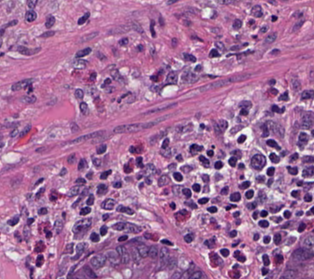nucleus: (69, 130, 104, 143), (200, 77, 232, 90), (145, 103, 176, 113), (113, 123, 144, 132), (266, 121, 283, 137), (72, 218, 91, 232), (12, 79, 33, 90), (72, 243, 86, 259), (117, 246, 130, 263), (251, 154, 265, 169), (90, 255, 105, 268), (105, 250, 119, 263), (17, 46, 39, 54), (75, 47, 90, 58), (182, 72, 198, 82), (159, 248, 169, 264), (80, 32, 97, 41), (116, 205, 133, 214), (111, 71, 123, 83), (124, 223, 140, 232), (137, 244, 148, 257), (83, 266, 96, 277), (232, 73, 249, 81), (67, 185, 79, 196), (102, 198, 114, 209), (73, 59, 87, 68), (19, 125, 30, 136), (264, 33, 276, 43), (267, 139, 279, 149), (148, 246, 158, 258), (210, 253, 219, 266), (58, 260, 65, 276), (217, 119, 227, 130), (158, 175, 169, 185), (190, 144, 202, 153), (161, 148, 173, 157), (175, 209, 187, 218), (131, 250, 140, 262), (54, 220, 62, 233), (199, 156, 209, 166), (97, 184, 107, 194), (35, 187, 44, 198), (7, 216, 18, 225), (35, 241, 44, 252), (21, 96, 35, 103), (190, 271, 204, 278), (80, 102, 88, 114), (113, 222, 125, 230), (167, 72, 177, 81), (184, 53, 195, 61), (40, 31, 54, 37), (272, 105, 284, 112), (215, 42, 224, 51), (74, 89, 83, 98), (97, 144, 106, 153), (269, 153, 278, 162), (173, 172, 182, 181), (184, 233, 193, 242), (231, 125, 241, 133), (161, 138, 169, 148), (67, 153, 75, 163), (78, 159, 86, 169), (100, 170, 110, 178), (230, 193, 240, 201), (65, 243, 73, 253), (23, 226, 29, 239), (240, 101, 251, 108), (86, 194, 93, 205), (36, 255, 43, 266), (209, 49, 218, 57), (262, 124, 268, 136), (10, 128, 19, 136), (228, 157, 236, 166), (182, 188, 190, 197), (90, 232, 98, 241), (274, 255, 282, 264), (136, 157, 143, 167), (80, 207, 90, 214), (274, 233, 280, 244), (161, 239, 172, 245), (89, 88, 97, 96), (146, 164, 154, 172), (245, 190, 253, 198), (71, 123, 78, 132), (34, 178, 43, 185), (240, 181, 249, 188), (259, 220, 268, 227), (100, 226, 107, 235), (75, 178, 85, 184), (186, 202, 196, 208), (271, 205, 281, 211), (119, 38, 127, 45), (269, 88, 277, 95), (214, 161, 222, 168), (124, 164, 131, 172), (267, 167, 274, 175), (192, 184, 200, 191), (205, 240, 213, 247), (220, 249, 228, 256), (237, 254, 245, 261), (215, 124, 221, 133), (181, 166, 190, 172), (258, 193, 264, 202), (199, 197, 208, 203), (118, 235, 127, 241), (263, 255, 269, 264), (171, 272, 180, 278), (240, 108, 247, 115), (238, 135, 245, 142), (93, 159, 100, 166), (59, 168, 66, 175), (247, 203, 255, 209), (208, 206, 216, 212), (38, 208, 46, 214), (202, 174, 208, 181), (221, 187, 227, 194), (50, 192, 56, 199), (90, 72, 95, 80), (145, 176, 150, 184), (113, 182, 121, 187), (195, 65, 201, 71), (207, 150, 213, 156), (86, 172, 92, 178), (260, 210, 266, 216), (230, 230, 236, 236), (168, 164, 175, 169), (254, 233, 259, 240), (264, 236, 269, 243), (234, 250, 239, 257), (262, 267, 267, 274), (172, 38, 176, 46), (253, 211, 257, 219), (269, 79, 275, 84), (129, 146, 134, 152), (176, 154, 181, 160), (257, 176, 263, 181), (103, 214, 108, 219), (104, 79, 110, 83), (273, 218, 281, 221), (271, 50, 278, 53), (138, 45, 142, 50), (239, 163, 243, 168), (170, 203, 174, 208), (46, 232, 50, 237), (144, 233, 149, 237), (268, 179, 271, 185), (137, 174, 141, 178), (234, 212, 238, 216), (226, 206, 230, 209)
